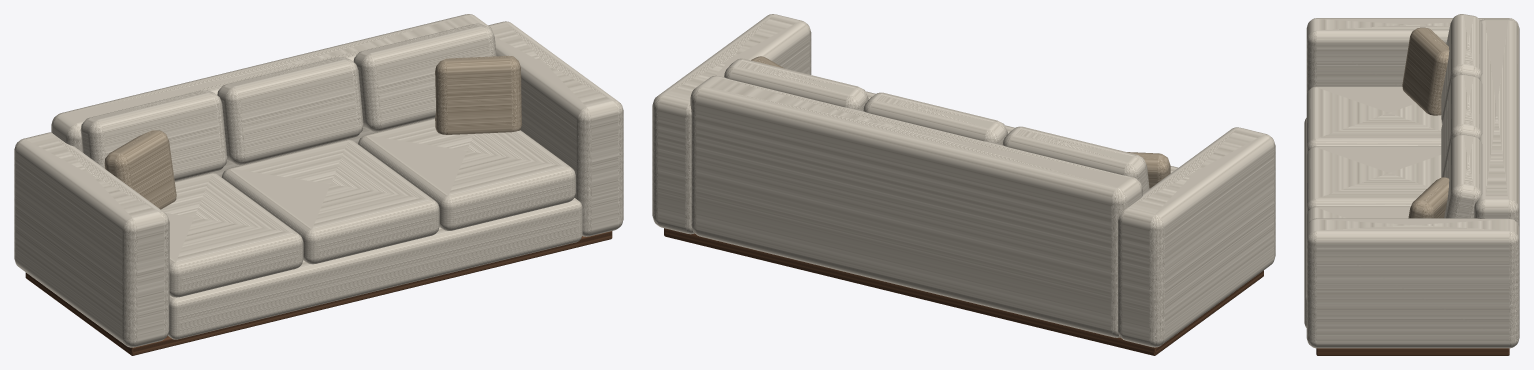
Rendered from obj_birim_modular_sofa_2400.glb.
3 renders of one model, left to right at view 1: azimuth 30°, elevation 25°; view 2: azimuth 150°, elevation 25°; view 3: azimuth 270°, elevation 25°, orthographic. The views are drawn at different scales.
Visible parts, largest first — view 1: obj_birim_modular_sofa_2400; view 2: obj_birim_modular_sofa_2400; view 3: obj_birim_modular_sofa_2400.
Boxes of the visible parts, left/top/right/bottom form: obj_birim_modular_sofa_2400: left=14, top=14, right=623, bottom=355; obj_birim_modular_sofa_2400: left=652, top=14, right=1275, bottom=355; obj_birim_modular_sofa_2400: left=1304, top=14, right=1519, bottom=355.
Size of the model in its own units: 2.4 by 0.7614 by 0.99.
3 materials, 3 textured.
